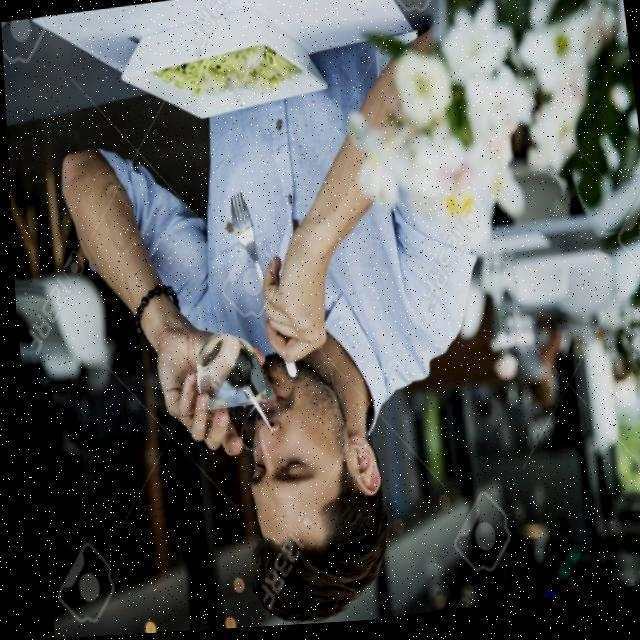eating-person: (29, 0, 542, 639)
